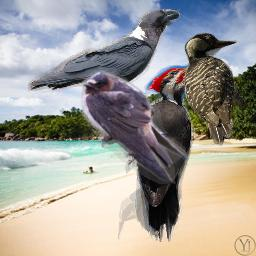Crow: (28, 9, 180, 92)
Swallow: (80, 70, 189, 184)
Woodpecker: (118, 56, 215, 242), (184, 32, 250, 147)
